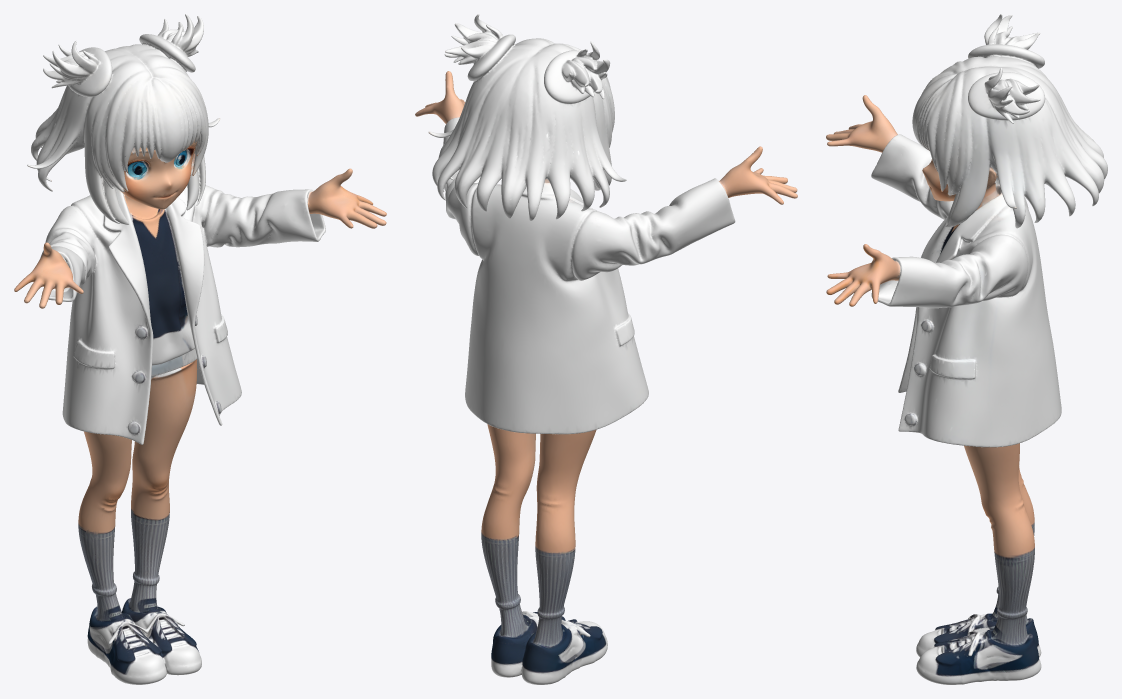
The model's file is refined.glb.
3 renders of one model, left to right at view 1: azimuth 30°, elevation 25°; view 2: azimuth 150°, elevation 25°; view 3: azimuth 270°, elevation 25°, orthographic. The views are drawn at different scales.
Bounding box in the file's own units: 1.15 × 1.9 × 0.7742.
1 material, 1 textured.
